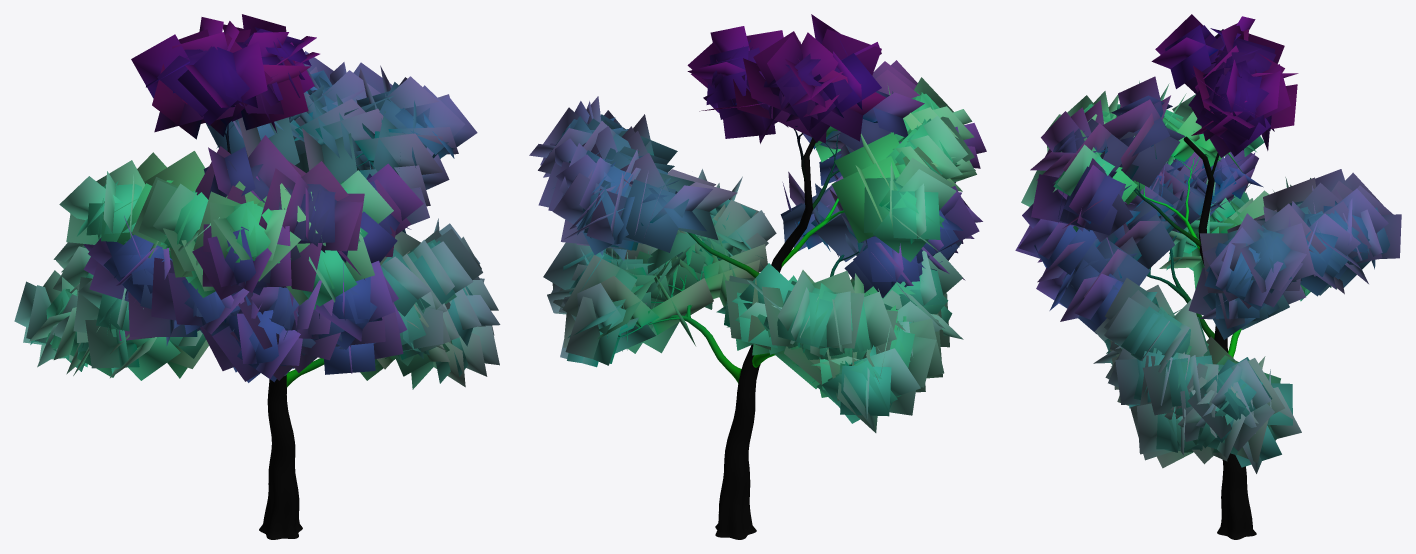
File: SM_Hero_Tree.fbx
The picture shows the model from 3 angles, left to right: view 1: azimuth 30°, elevation 25°; view 2: azimuth 150°, elevation 25°; view 3: azimuth 270°, elevation 25°; orthographic projection. The views are drawn at different scales.
Visible parts, largest first — view 1: _2, _0; view 2: _2, _0; view 3: _2, _0.
Boxes of the visible parts, x1=… form: _2: x1=14, y1=14, x2=500, y2=389; _0: x1=136, y1=124, x2=368, y2=539; _2: x1=529, y1=14, x2=986, y2=432; _0: x1=607, y1=129, x2=859, y2=539; _2: x1=1015, y1=14, x2=1401, y2=473; _0: x1=1134, y1=136, x2=1256, y2=539.
Size of the model in its own units: 748 by 904 by 670.
